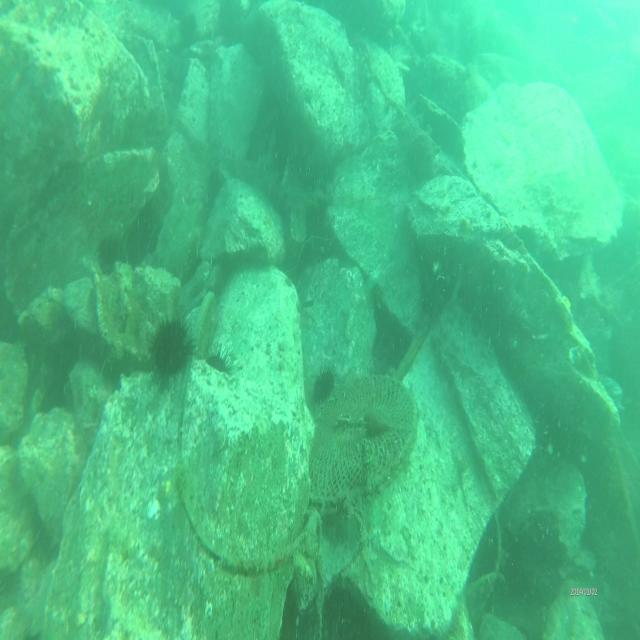echinus: (148, 312, 195, 377), (97, 236, 125, 279), (203, 339, 232, 380), (310, 364, 336, 409)
